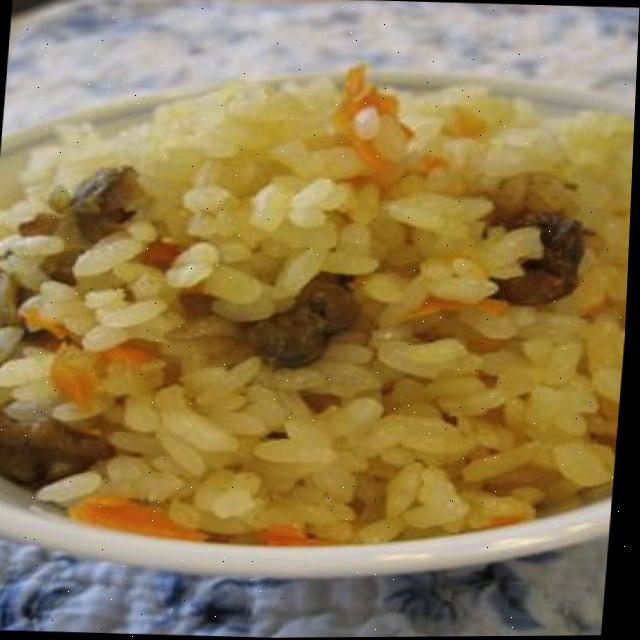米饭主食: (0, 53, 638, 554)
